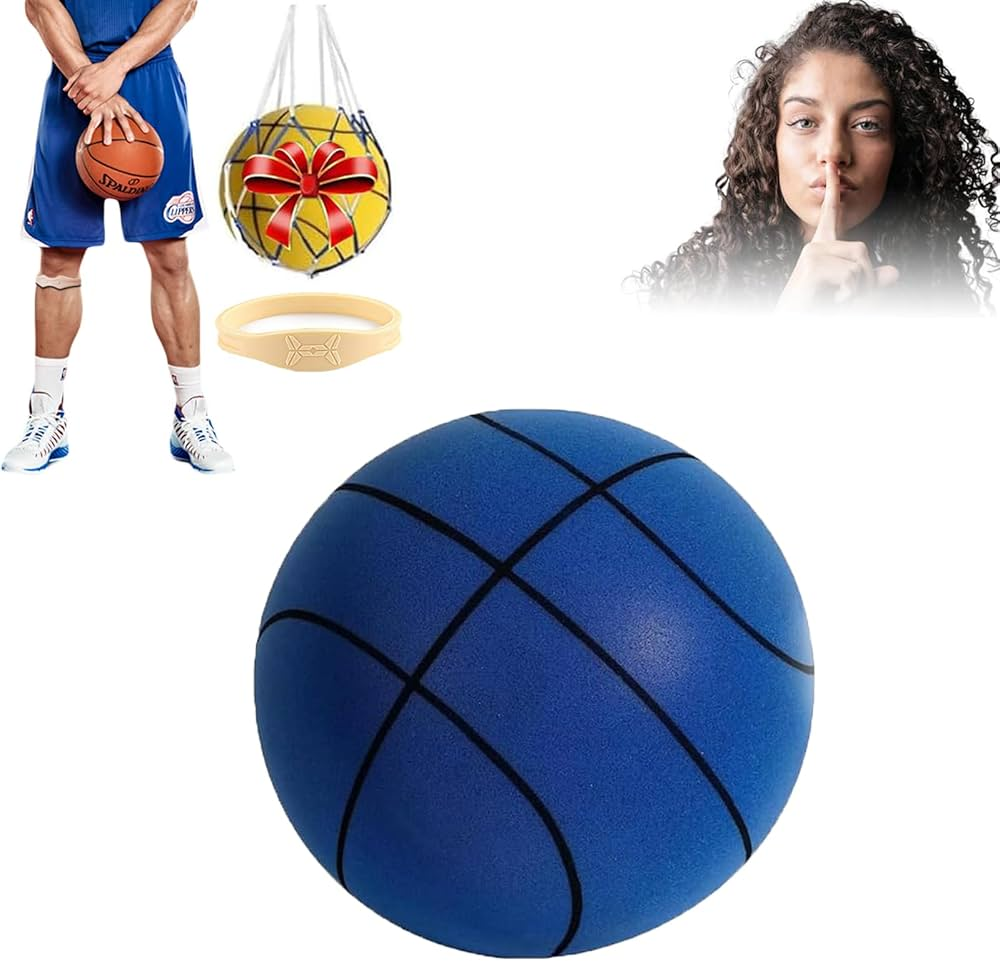ball: (223, 376, 834, 961), (67, 109, 180, 211)
